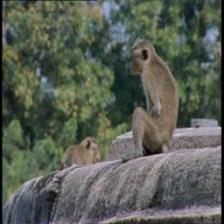monkey: (127, 35, 157, 86)
